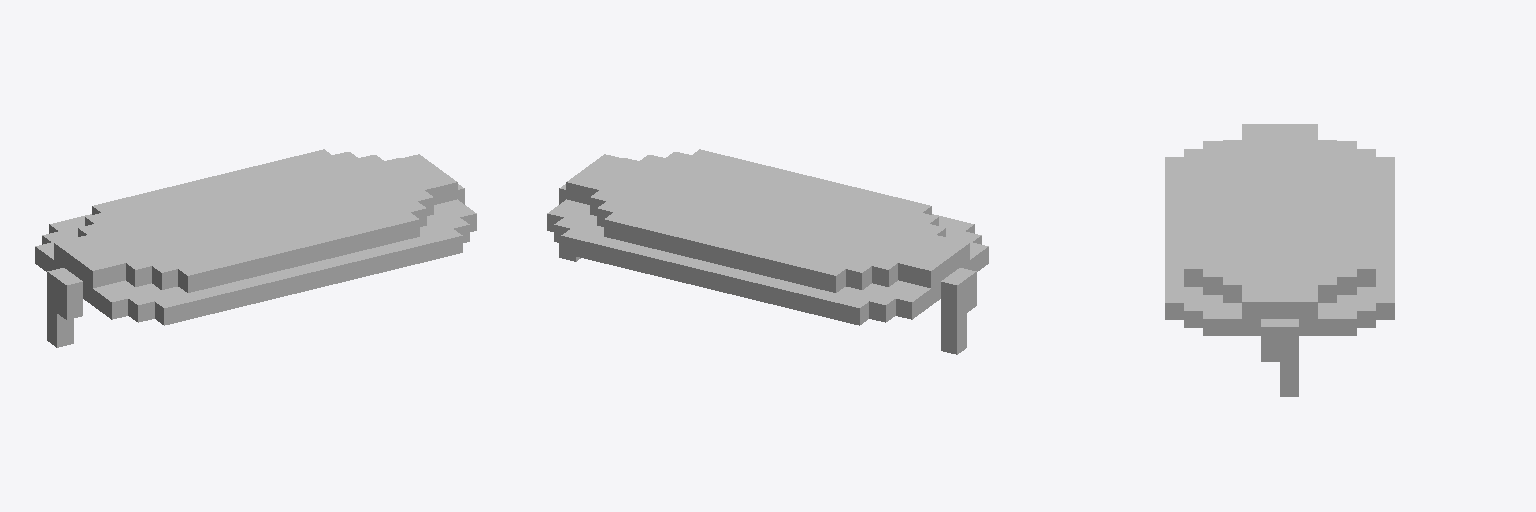
File: Smol-Platform 3.obj
3 renders of one model, left to right at view 1: azimuth 30°, elevation 25°; view 2: azimuth 150°, elevation 25°; view 3: azimuth 270°, elevation 25°, orthographic.
Visible parts, largest first — view 1: object 1; view 2: object 1; view 3: object 1.
Boxes of the visible parts, box(x1,y1,x2,y2) form: object 1: box(35, 149, 476, 347); object 1: box(547, 149, 988, 354); object 1: box(1165, 124, 1394, 396).
Bounding box in the file's own units: 2.4 × 0.5 × 1.2.